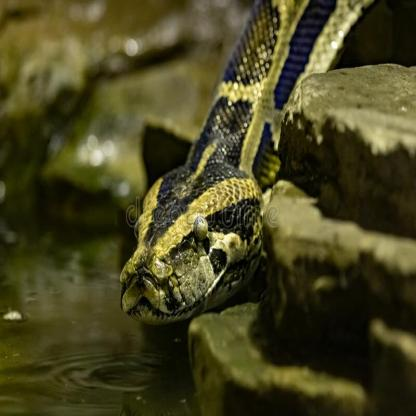Snake: (115, 0, 346, 334)
